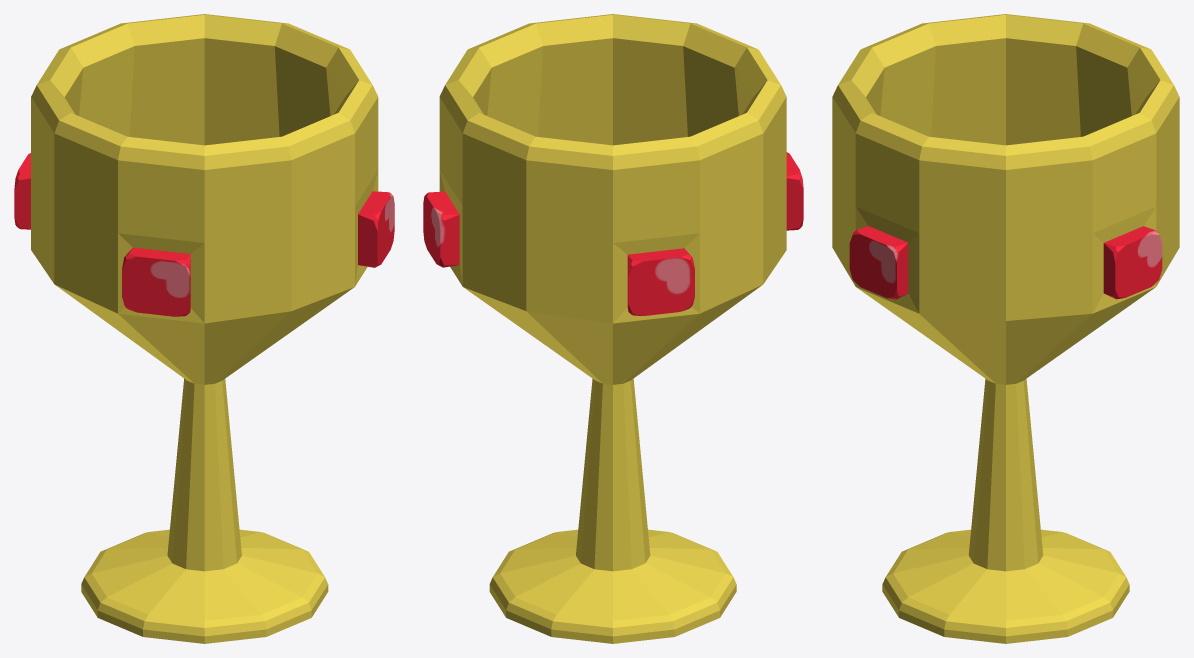
The model's file is Loot.fbx.
3 renders of one model, left to right at view 1: azimuth 30°, elevation 25°; view 2: azimuth 150°, elevation 25°; view 3: azimuth 270°, elevation 25°, orthographic.
Parts seen in each view (by area): view 1: Cup; view 2: Cup; view 3: Cup.
Boxes of the visible parts, bbox=[...] form: Cup: bbox=[14, 14, 394, 643]; Cup: bbox=[423, 14, 803, 643]; Cup: bbox=[832, 14, 1179, 643].
Size of the model in its own units: 37.62 by 61.18 by 37.62.
Materials: 1 (1 with a texture image).
